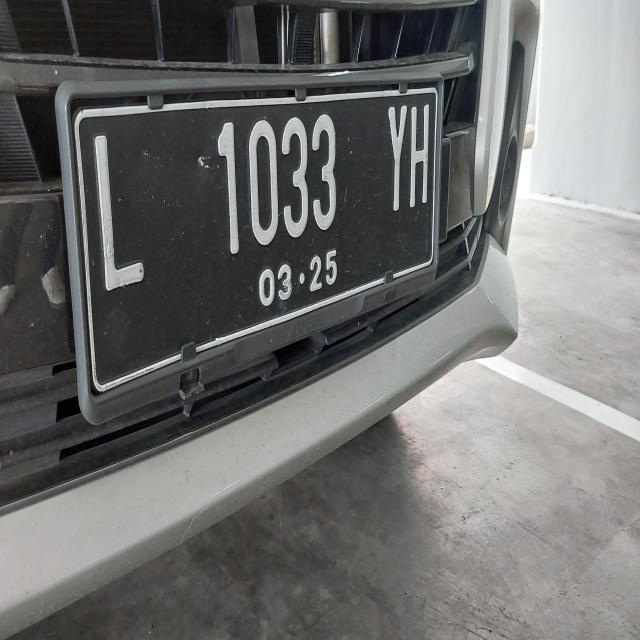0: (242, 101, 286, 260)
1: (204, 103, 246, 277)
3: (274, 98, 314, 250), (306, 98, 347, 244)
H: (402, 76, 436, 224)
L: (82, 118, 160, 312)
Y: (376, 86, 414, 234)
